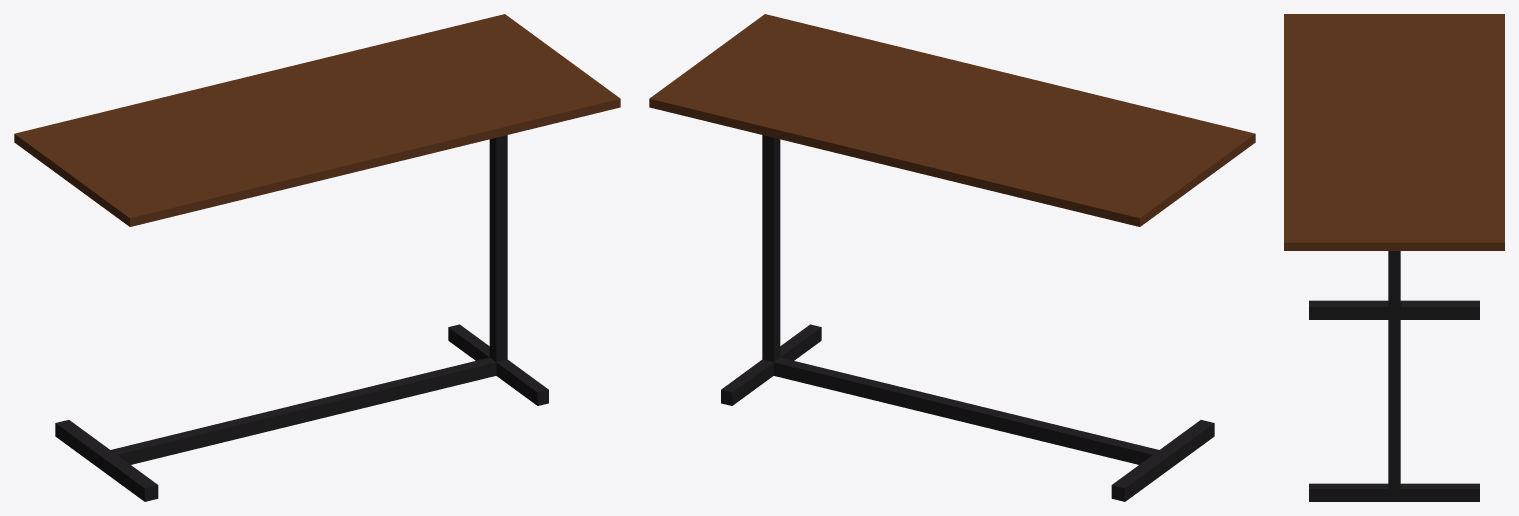
The model's file is Table.fbx.
3 renders of one model, left to right at view 1: azimuth 30°, elevation 25°; view 2: azimuth 150°, elevation 25°; view 3: azimuth 270°, elevation 25°, orthographic. The views are drawn at different scales.
Parts seen in each view (by area): view 1: Cube; view 2: Cube; view 3: Cube.
Part boxes in pixels (left/top/right/bottom): Cube: left=14, top=14, right=620, bottom=501; Cube: left=649, top=14, right=1255, bottom=501; Cube: left=1284, top=14, right=1504, bottom=501.
Bounding box in the file's own units: 200 × 117 × 81.65.
